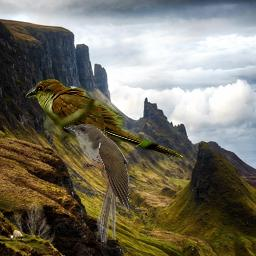Cuckoo: (25, 77, 185, 160), (64, 123, 129, 242)
